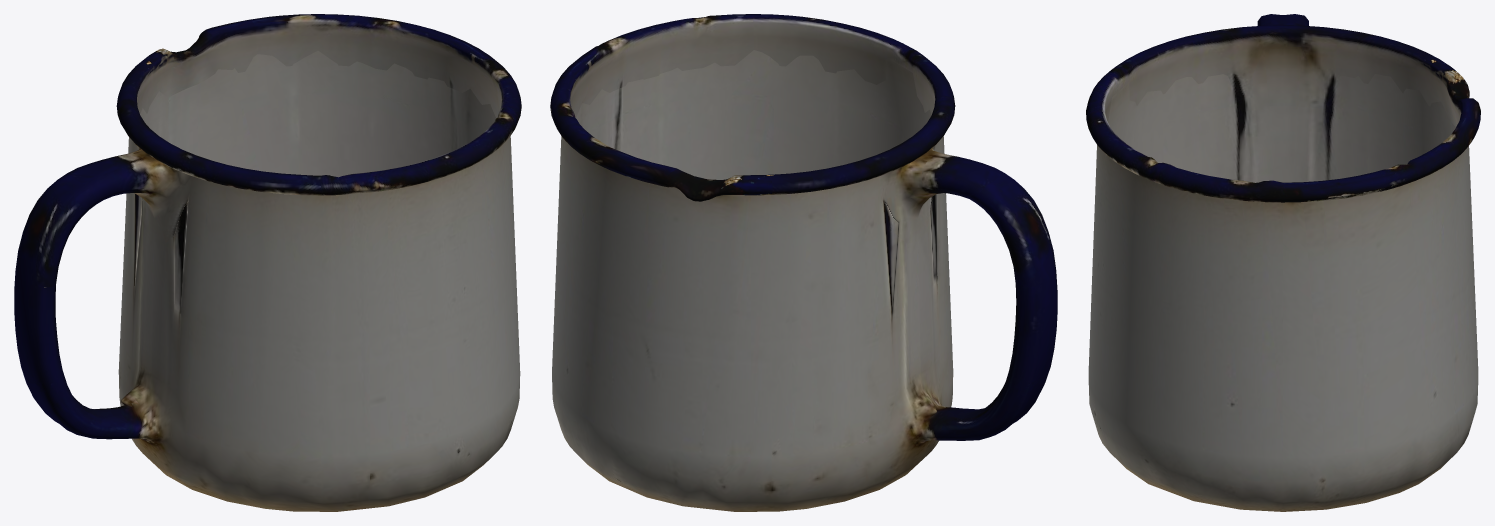
File: canteen-mug.glb
The picture shows the model from 3 angles, left to right: view 1: azimuth 30°, elevation 25°; view 2: azimuth 150°, elevation 25°; view 3: azimuth 270°, elevation 25°; orthographic projection. The views are drawn at different scales.
Visible parts, largest first — view 1: SM_BT_CanteenMug; view 2: SM_BT_CanteenMug; view 3: SM_BT_CanteenMug.
Boxes of the visible parts, x1,y1,x2,y2 form: SM_BT_CanteenMug: [14, 14, 521, 511]; SM_BT_CanteenMug: [550, 14, 1057, 511]; SM_BT_CanteenMug: [1086, 14, 1480, 511].
Size of the model in its own units: 0.1278 by 0.09 by 0.0946.
1 material, 1 textured.
